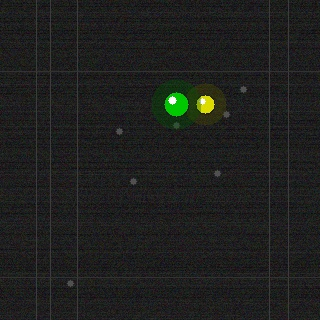green_normal: (162, 90, 190, 118)
yellow_warning: (194, 93, 216, 115)
